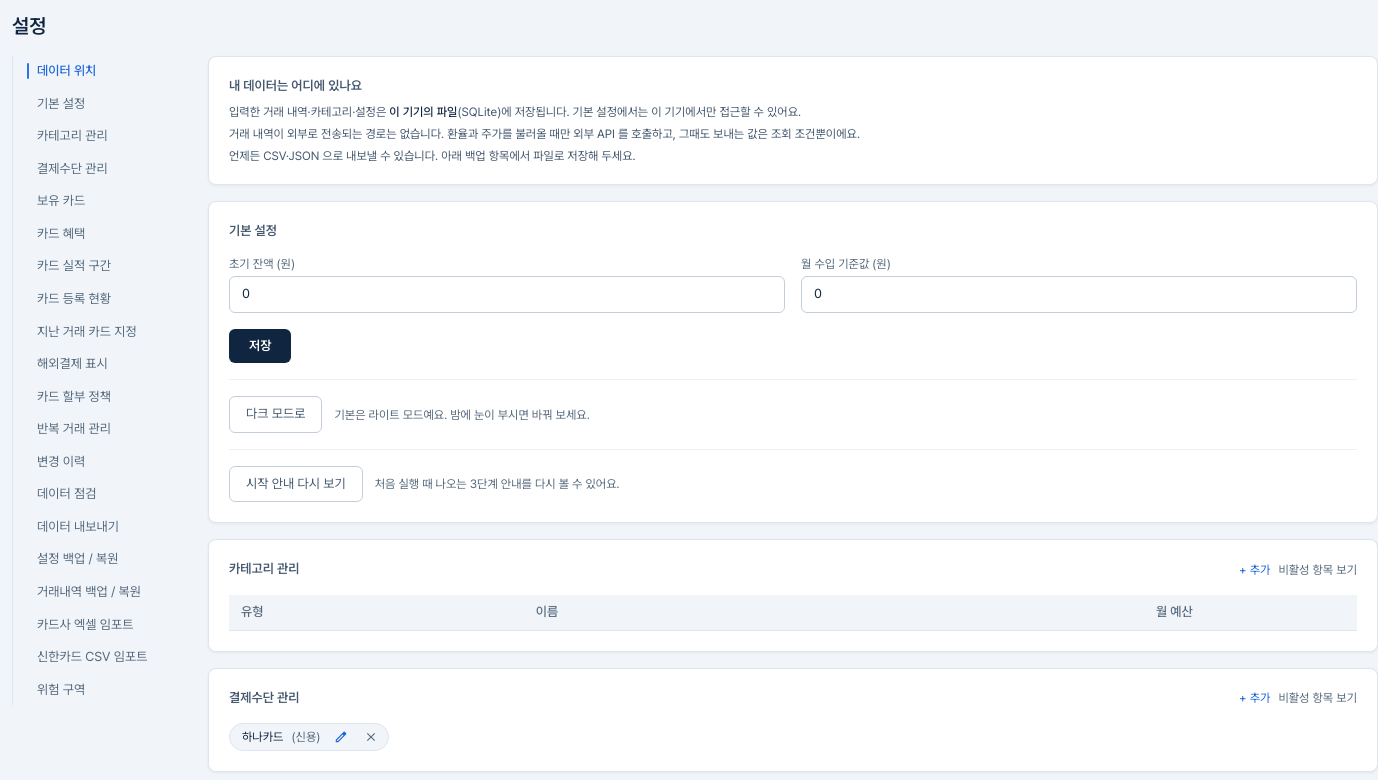
Test: 활성 필터 › 비활성 항목 보기로 넘기면 함께 보여준다
Step 1. Click the 2nd button "비활성 항목 보기" → (1318, 698), box 1278,690 -> 1357,706
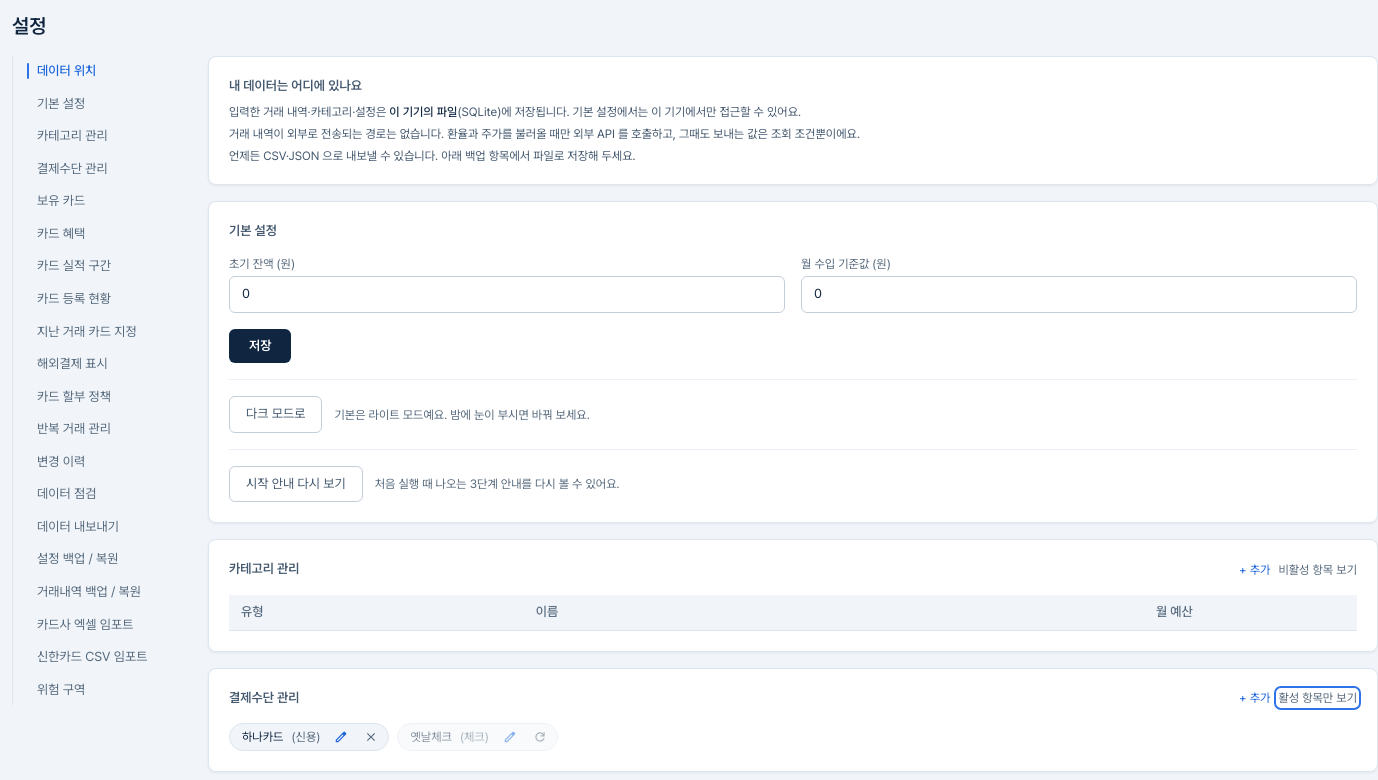
Now the text "옛날체크" is shown, box 410,730 -> 452,744
